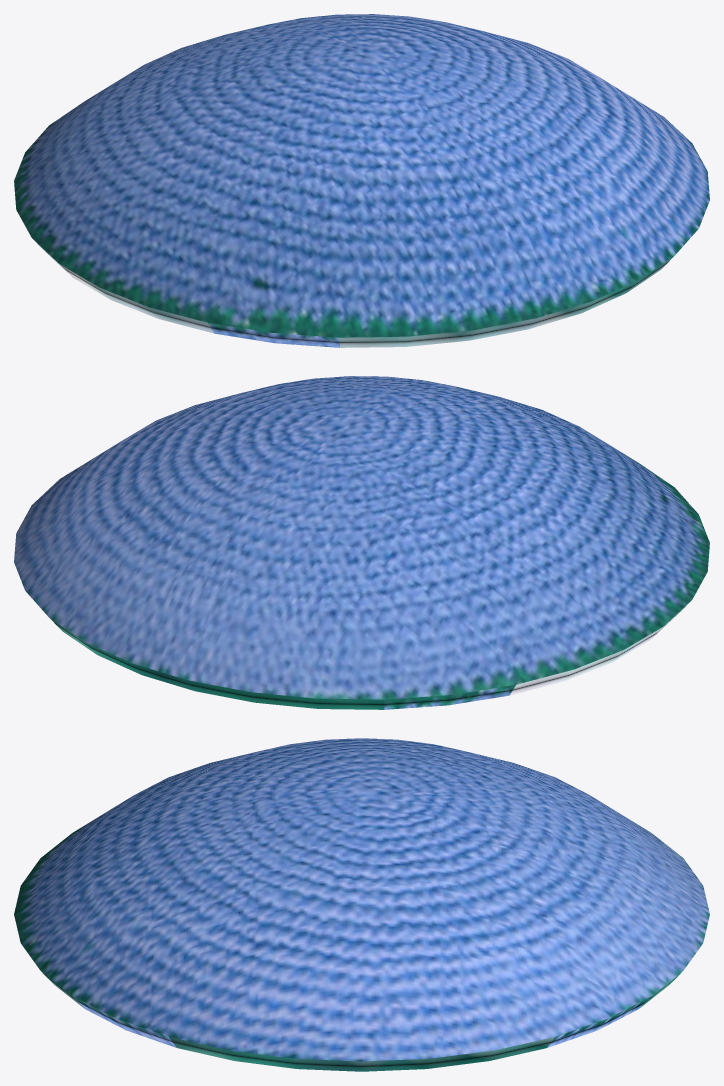
File: Kippa.fbx
3 renders of one model, top to bottom at view 1: azimuth 30°, elevation 25°; view 2: azimuth 150°, elevation 25°; view 3: azimuth 270°, elevation 25°, orthographic.
Visible parts, largest first — view 1: Kippa_; view 2: Kippa_; view 3: Kippa_.
Boxes of the visible parts, x1,y1,x2,y2 form: Kippa_: (14, 14, 709, 347); Kippa_: (14, 376, 709, 709); Kippa_: (14, 738, 709, 1071).
Bounding box in the file's own units: 1.41 × 1.41 × 0.33.
